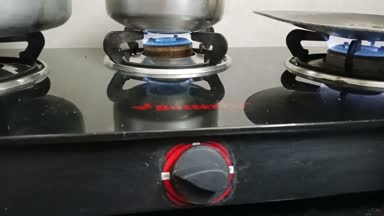flame_gas_on: (104, 25, 259, 207), (281, 22, 384, 87)
